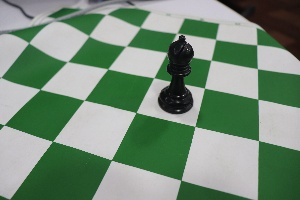black_bishop: (153, 31, 200, 120)
